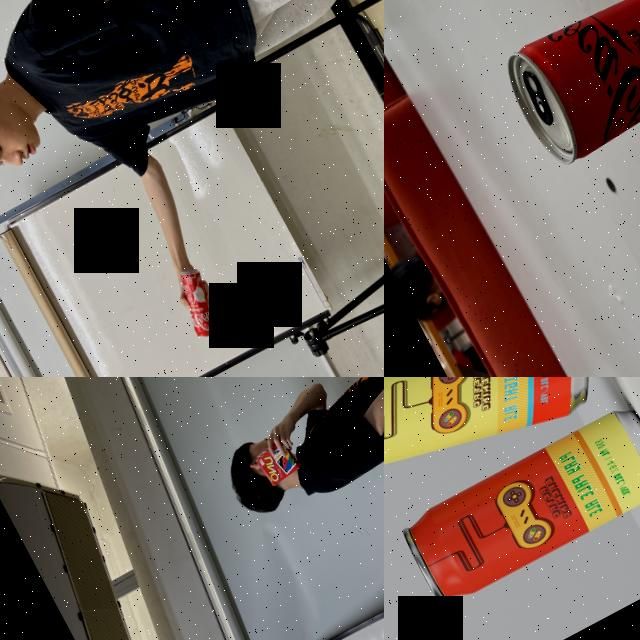can: (396, 399, 640, 609), (384, 377, 621, 520), (493, 0, 640, 173), (165, 262, 228, 341)
